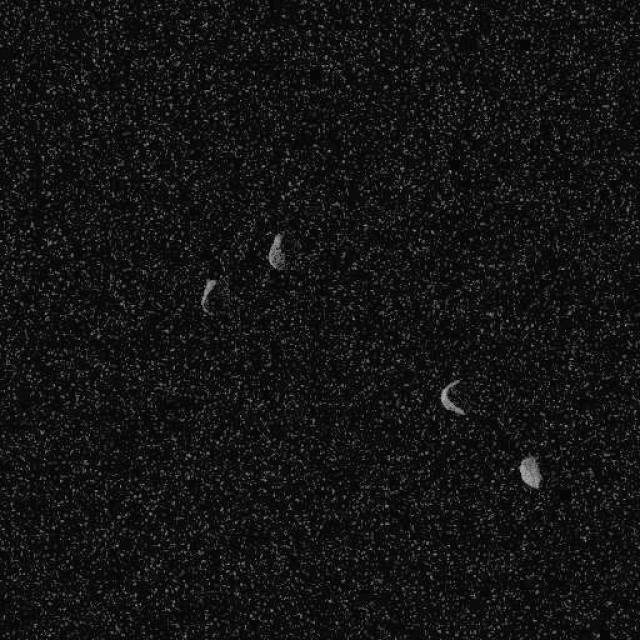D2: (439, 376, 466, 416), (518, 454, 542, 490), (266, 231, 286, 271), (199, 276, 216, 314)
